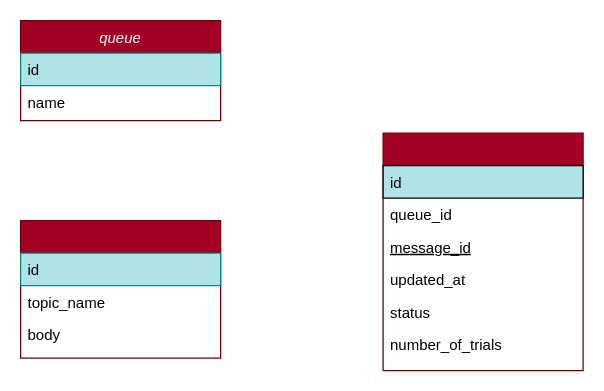
The diagram is 604 pixels wide and 391 high, and some of its shapes have lost their labels. Here are the shapes that lost their labels. From the top down, the box of each, then its label:
(382, 132, 583, 371): queue_message_status
(19, 219, 221, 358): queue_message
